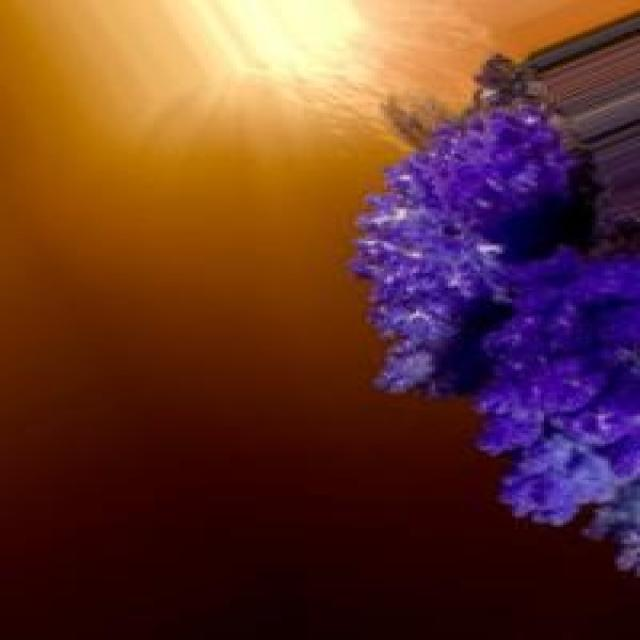Healthy: (350, 65, 593, 400), (475, 253, 640, 573)
